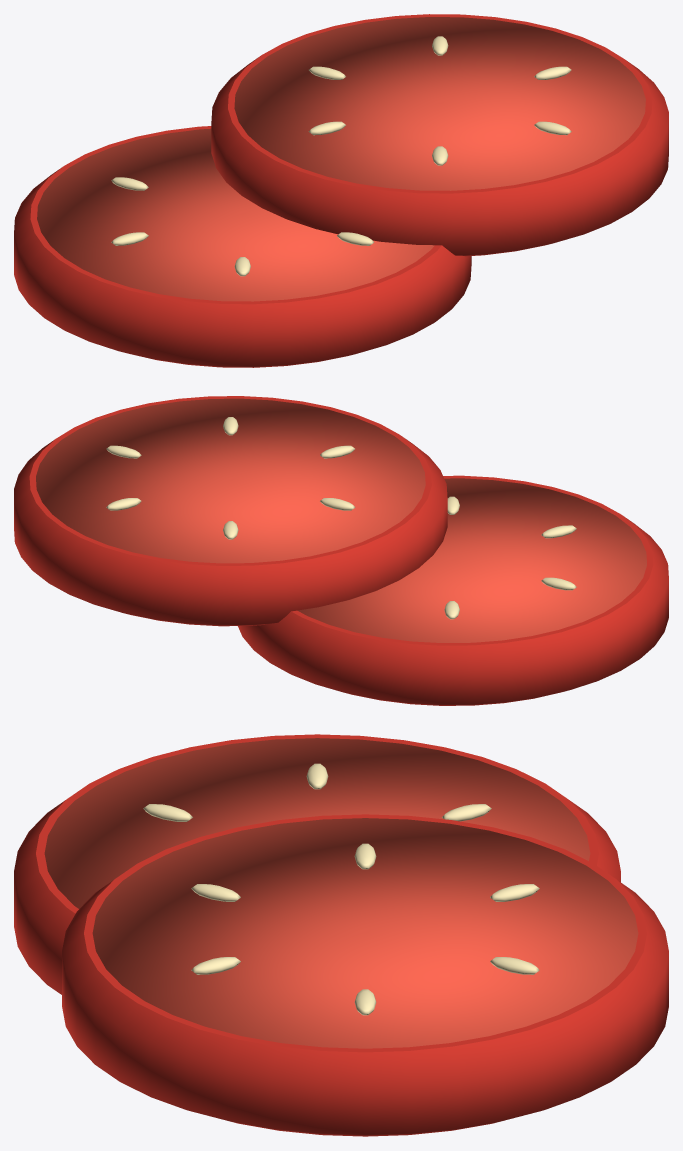
Rendered from tomato_prepped.glb.
3 renders of one model, top to bottom at view 1: azimuth 30°, elevation 25°; view 2: azimuth 150°, elevation 25°; view 3: azimuth 270°, elevation 25°, orthographic. The views are drawn at different scales.
Parts seen in each view (by area): view 1: Cut flesh.001, Cut flesh, Slice skin, Slice skin.001; view 2: Cut flesh.001, Cut flesh, Slice skin.001, Slice skin; view 3: Cut flesh.001, Slice skin.001, Cut flesh, Slice skin, Tomato seed.004, Tomato seed.011, Tomato seed.007, Tomato seed.008, Tomato seed.010.
Boxes of the visible parts, box(x1,y1,x2,y2) form: Cut flesh.001: box(234, 17, 645, 190); Cut flesh: box(37, 128, 434, 301); Slice skin: box(14, 126, 471, 367); Slice skin.001: box(211, 14, 668, 256); Cut flesh.001: box(36, 398, 425, 563); Cut flesh: box(297, 478, 646, 642); Slice skin.001: box(14, 396, 447, 626); Slice skin: box(238, 475, 668, 705); Cut flesh.001: box(92, 818, 638, 1048); Slice skin.001: box(62, 814, 668, 1136); Cut flesh: box(44, 738, 590, 908); Slice skin: box(14, 734, 620, 994); Tomato seed.004: box(143, 804, 192, 821); Tomato seed.011: box(191, 957, 240, 974); Tomato seed.007: box(490, 957, 539, 974); Tomato seed.008: box(490, 884, 539, 901); Tomato seed.010: box(191, 884, 240, 901).
Size of the model in its own units: 0.429 by 0.078 by 0.3.
